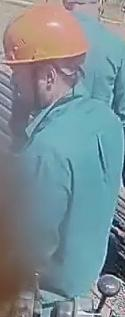helmet: (0, 0, 89, 72)
vest: (14, 92, 123, 296)
